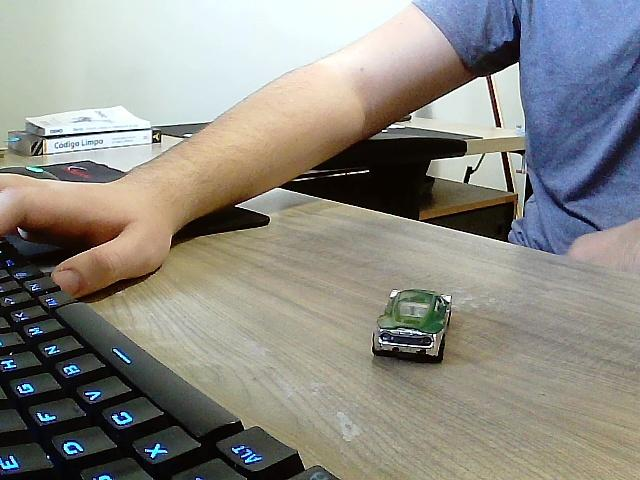Carro: (371, 290, 452, 365)
